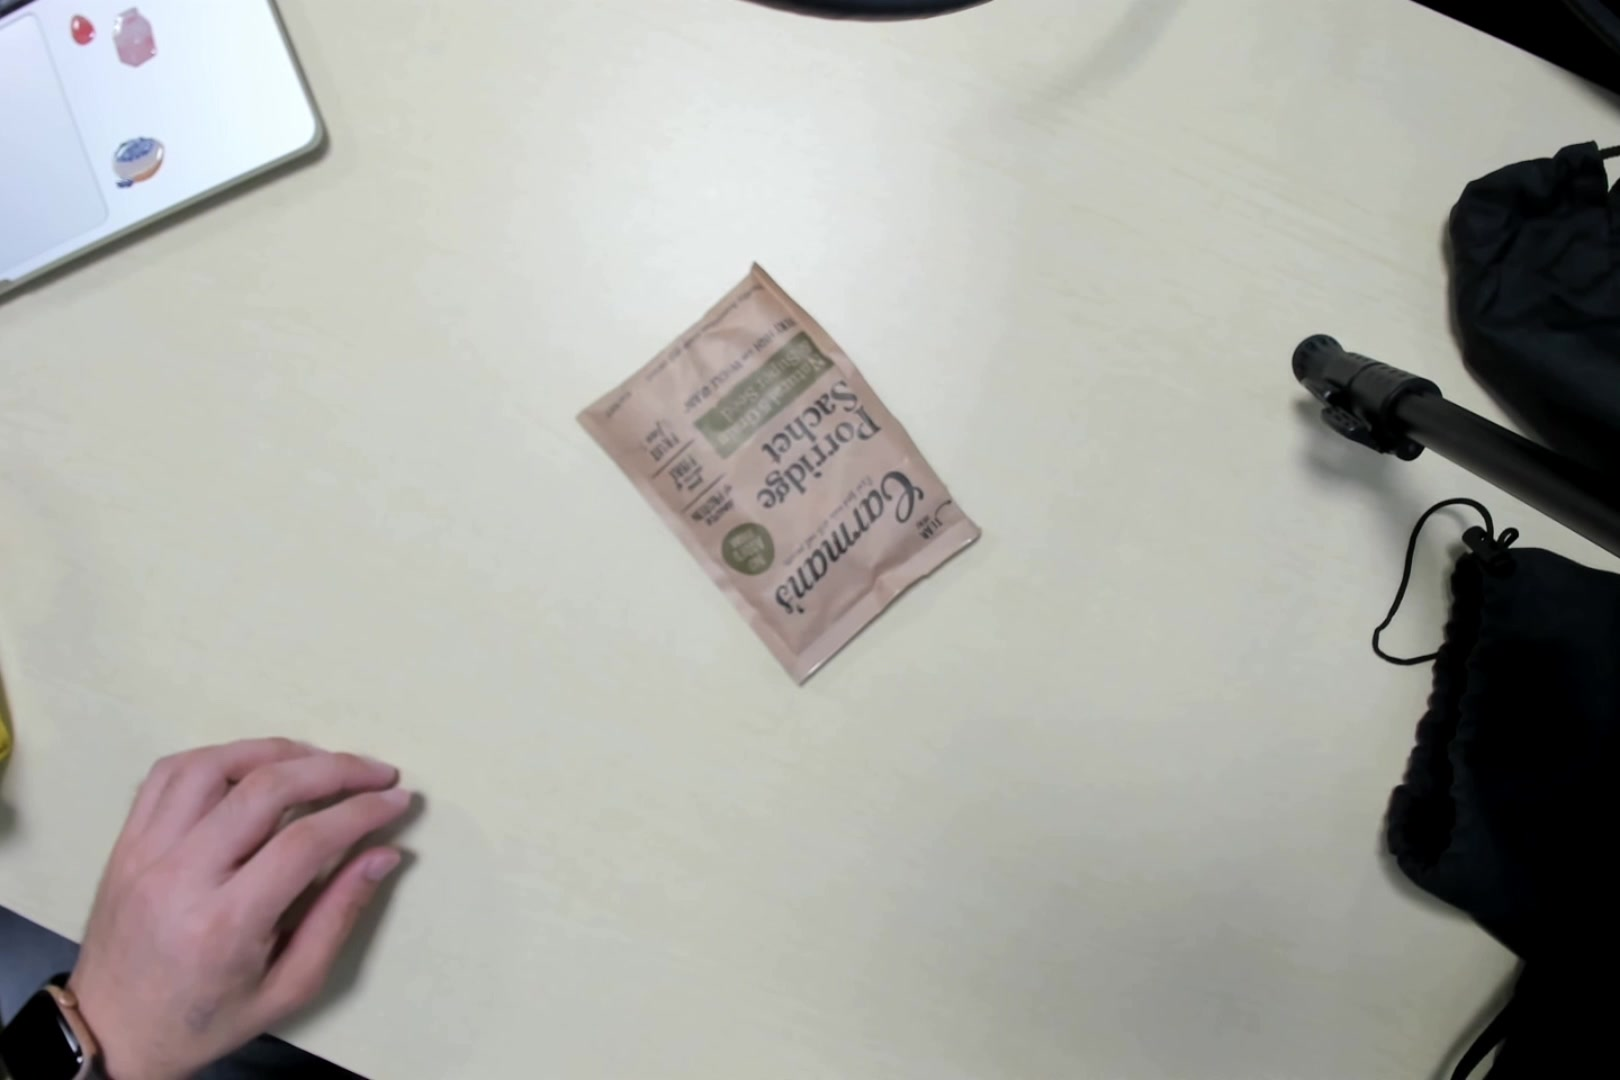InstantMeals_0-99g_NonHalal_NonHealthy: (589, 263, 959, 686)
